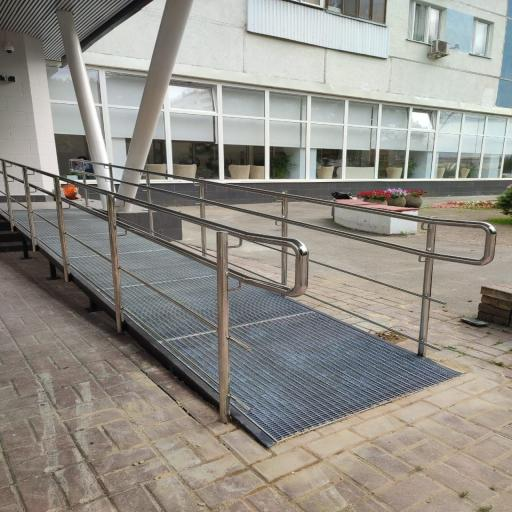entrance: (0, 156, 494, 447)
trash_bin: (321, 184, 424, 238), (332, 199, 418, 235)
